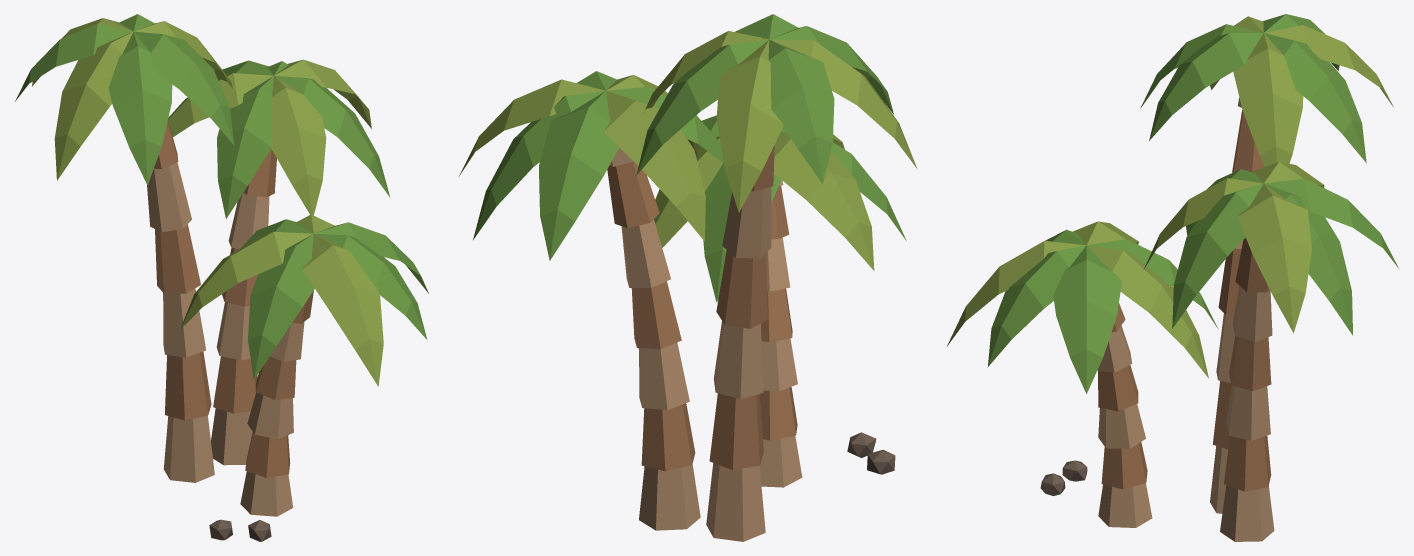
File: palm_trees.glb
The picture shows the model from 3 angles, left to right: view 1: azimuth 30°, elevation 25°; view 2: azimuth 150°, elevation 25°; view 3: azimuth 270°, elevation 25°; orthographic projection. The views are drawn at different scales.
Parts seen in each view (by area): view 1: Palm trees Palm fronds, Palm trees Palm fronds light, Palm trees Palm bark, Palm trees Palm bark rings, Palm trees Coconut; view 2: Palm trees Palm fronds, Palm trees Palm fronds light, Palm trees Palm bark, Palm trees Palm bark rings, Palm trees Coconut; view 3: Palm trees Palm fronds, Palm trees Palm fronds light, Palm trees Palm bark, Palm trees Palm bark rings, Palm trees Coconut.
Part boxes in pixels (left/top/right/bottom): Palm trees Palm fronds: left=15, top=14, right=428, bottom=379; Palm trees Palm fronds light: left=32, top=18, right=383, bottom=386; Palm trees Palm bark: left=147, top=162, right=304, bottom=516; Palm trees Palm bark rings: left=154, top=120, right=313, bottom=477; Palm trees Coconut: left=209, top=519, right=271, bottom=541; Palm trees Palm fronds: left=473, top=14, right=906, bottom=302; Palm trees Palm fronds light: left=459, top=31, right=917, bottom=270; Palm trees Palm bark: left=609, top=37, right=802, bottom=541; Palm trees Palm bark rings: left=607, top=145, right=797, bottom=471; Palm trees Coconut: left=847, top=432, right=895, bottom=474; Palm trees Palm fronds: left=987, top=14, right=1399, bottom=393; Palm trees Palm fronds light: left=947, top=16, right=1393, bottom=378; Palm trees Palm bark: left=1095, top=40, right=1274, bottom=541; Palm trees Palm bark rings: left=1098, top=110, right=1271, bottom=491; Palm trees Coconut: left=1040, top=460, right=1087, bottom=495.
Bounding box in the file's own units: 1.52 × 1.83 × 1.64.
